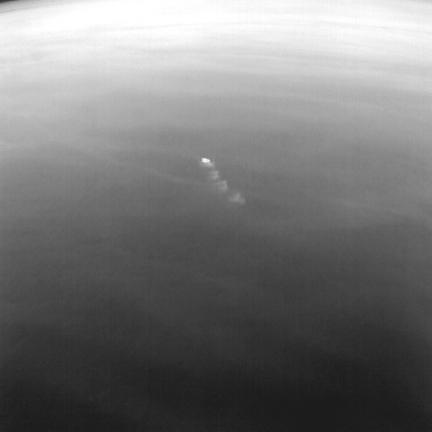flukeprints: (229, 192, 244, 203), (209, 167, 219, 181), (215, 181, 227, 192), (201, 158, 212, 165)
